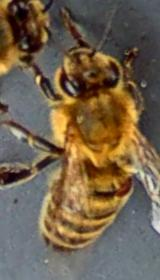varroa_mite: (103, 167, 136, 203)
